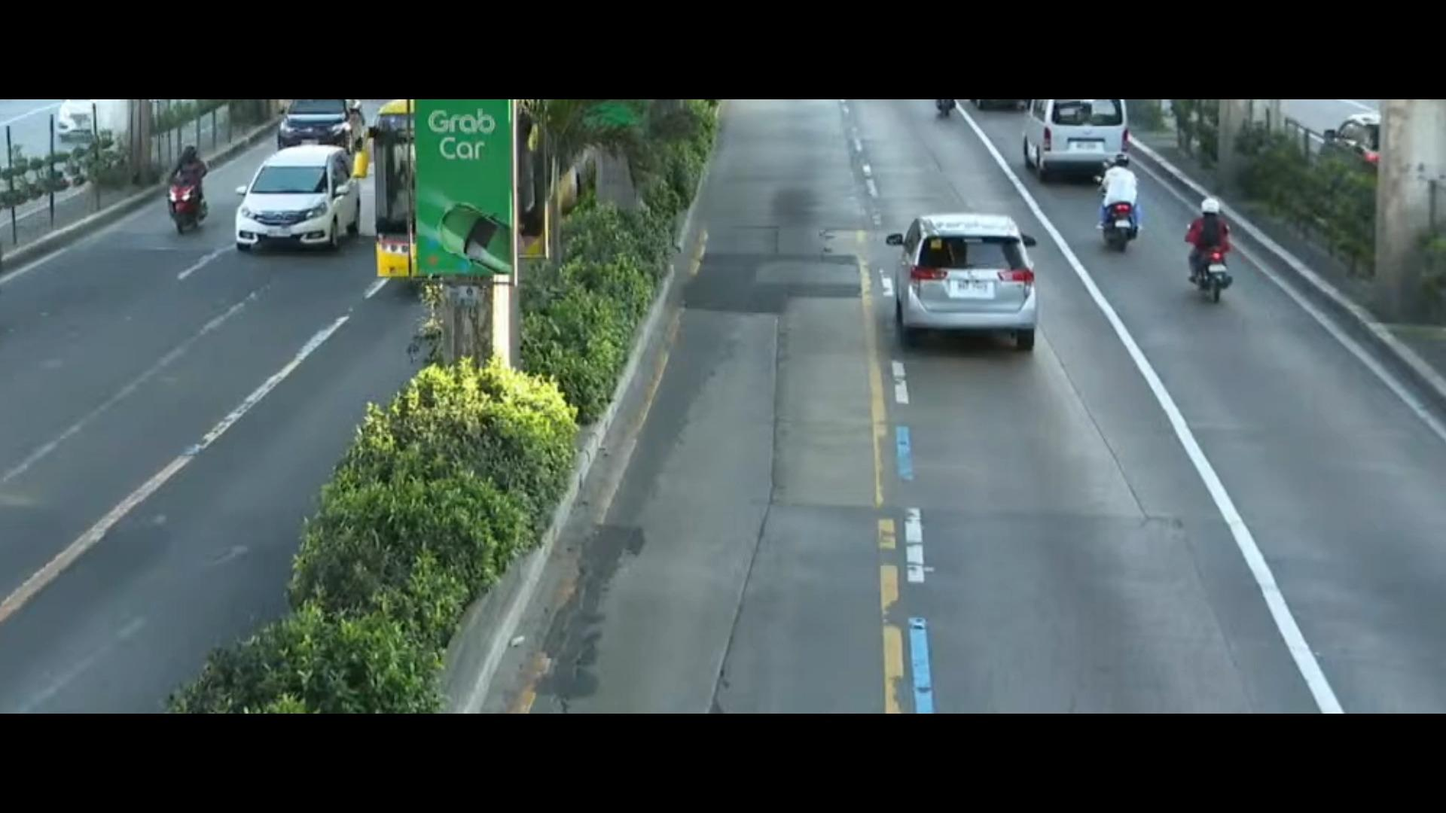Bus: (342, 98, 427, 296)
Motorcycle: (139, 133, 242, 258), (1166, 201, 1268, 318), (1092, 159, 1150, 264)
Sedan: (889, 204, 1060, 364), (226, 144, 375, 284)
Van: (1005, 103, 1136, 171)
